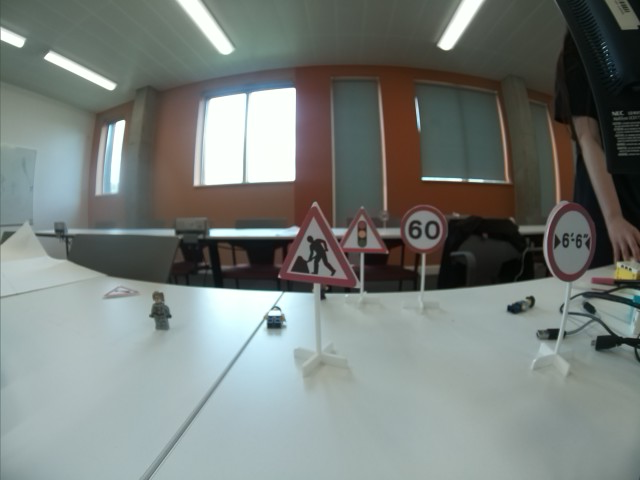60mph: (399, 206, 449, 254)
6ft6: (543, 202, 595, 281)
Lego Man: (149, 291, 173, 329), (506, 295, 538, 314), (263, 304, 287, 328)
Roadworks: (280, 207, 360, 286)
Traffic lights: (340, 210, 387, 255)
Warning: (102, 282, 139, 298)
